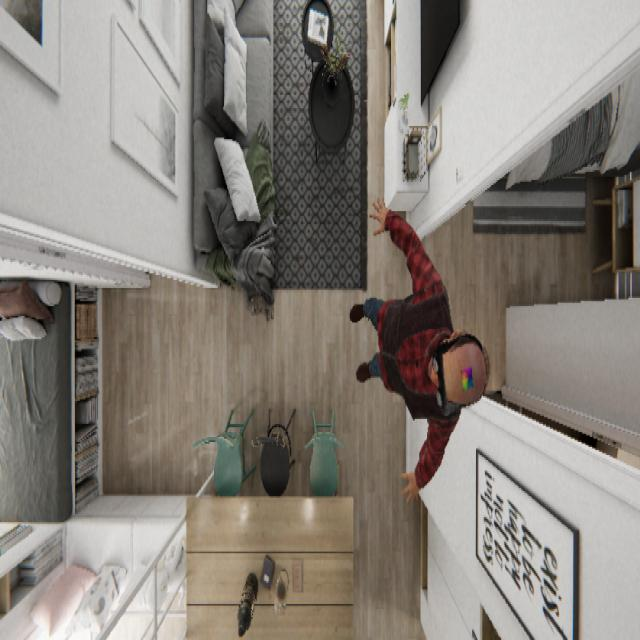Colored-Marker: (459, 362, 474, 393)
Human: (348, 193, 491, 504)
